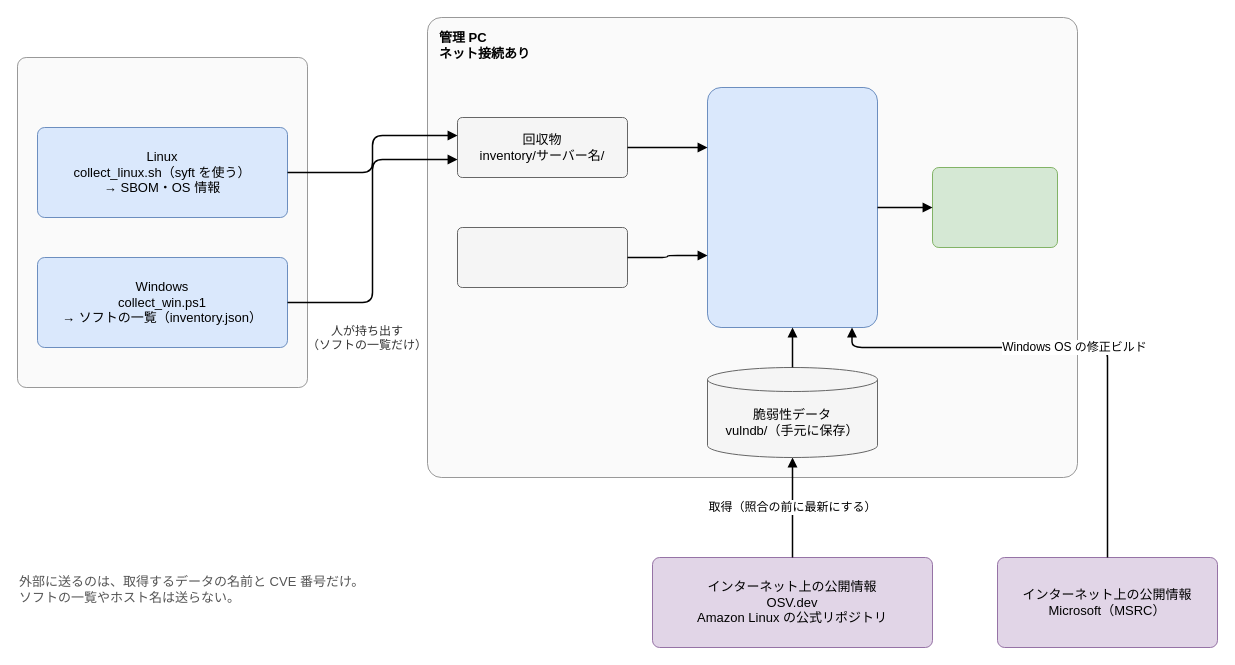
Some shapes in this 1235 by 665 pixel diagram are drawn without their labels. The box of each missing label's shape, as (x1, y1, x2, y2) in pixels:
CVE の一覧（任意） 会社の通達の Excel など: (456, 226, 628, 288)
レポート Excel / CSV: (932, 166, 1058, 248)
対象マシン ネット接続なし・インストール不要: (16, 56, 308, 388)
脆弱確認（zk） 1 台ずつ照合: (706, 86, 878, 328)
